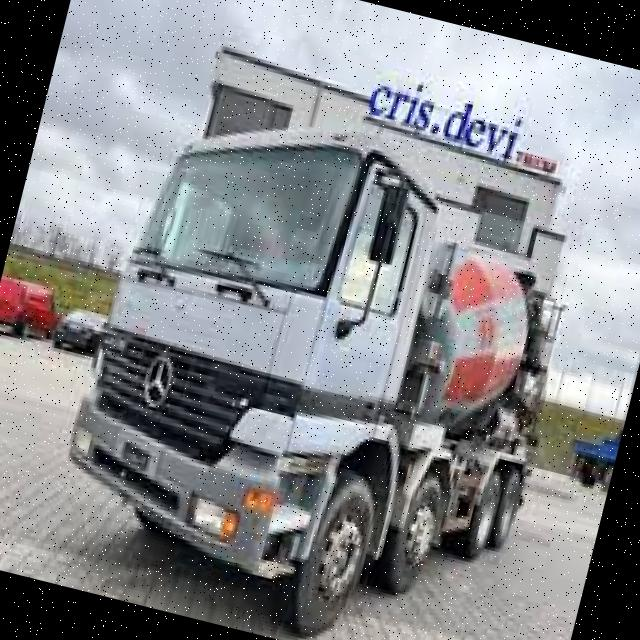Mixer Truck: (34, 76, 604, 640)
